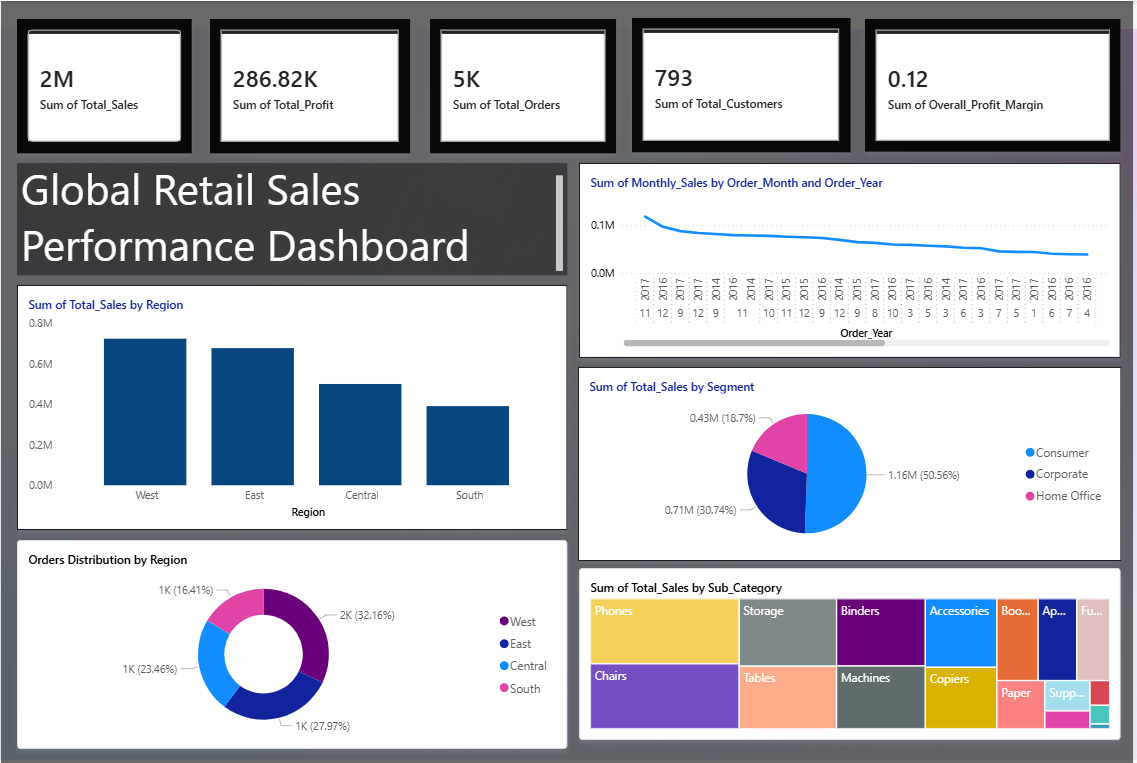

What the dashboard file says about the page in this screenshot:
{"tool":"powerbi","page":{"name":"Page 1","canvas":[1290,900],"ordinal":0},"visuals":[{"type":"cardVisual","fields":{"Data":["Sum(ww_KPI_Summary.Total_Sales)"]},"box":[17.8,20.1,199.1,152.9],"z":0},{"type":"cardVisual","fields":{"Data":["Sum(ww_KPI_Summary.Total_Profit)"]},"box":[238.2,20.1,227.5,152.9],"z":1000},{"type":"cardVisual","fields":{"Data":["Sum(ww_KPI_Summary.Total_Orders)"]},"box":[488.2,20.1,212.1,152.9],"z":2000},{"type":"cardVisual","fields":{"Data":["Sum(ww_KPI_Summary.Total_Customers)"]},"box":[719.3,19,248.8,152.9],"z":3000},{"type":"cardVisual","fields":{"Data":["Sum(ww_KPI_Summary.Overall_Profit_Margin)"]},"box":[984.3,20.4,291.3,151.1],"z":4000},{"type":"lineChart","fields":{"Category":["vw_Monthly_Sales.Order_Month","vw_Monthly_Sales.Order_Year"],"Y":["Sum(vw_Monthly_Sales.Monthly_Sales)"]},"box":[658.5,184.6,617.5,222.2],"z":5000},{"type":"clusteredColumnChart","fields":{"Category":["vw_Region_Performance.Region"],"Y":["Sum(vw_Region_Performance.Total_Sales)"]},"box":[18.2,323.5,626.6,279.1],"z":6000},{"type":"pieChart","fields":{"Category":["vw_Customer_Performance.Segment"],"Y":["Sum(vw_Customer_Performance.Total_Sales)"]},"box":[657.3,417,618.6,221],"z":7000},{"type":"donutChart","title":"Orders Distribution by Region","fields":{"Category":["vw_Region_Performance.Region"],"Y":["Sum(vw_Region_Performance.Total_Orders)"]},"box":[18.2,614.1,626.6,238.1],"z":8000},{"type":"treemap","fields":{"Group":["vw_Peoduct_Performance.Sub_Category"],"Values":["Sum(vw_Peoduct_Performance.Total_Sales)"]},"box":[658.5,645.9,617.5,195.9],"z":9000},{"type":"textbox","box":[18.2,184.6,626.6,127.6],"z":10000}]}

Visuals, with their boxes in screenshot pixels (x1, y1, x2, y2):
cardVisual - Sum(ww_KPI_Summary.Total_Sales): [x1=21, y1=20, x2=194, y2=153]
cardVisual - Sum(ww_KPI_Summary.Total_Profit): [x1=213, y1=20, x2=410, y2=153]
cardVisual - Sum(ww_KPI_Summary.Total_Orders): [x1=430, y1=20, x2=614, y2=153]
cardVisual - Sum(ww_KPI_Summary.Total_Customers): [x1=630, y1=19, x2=846, y2=152]
cardVisual - Sum(ww_KPI_Summary.Overall_Profit_Margin): [x1=860, y1=21, x2=1113, y2=152]
lineChart - vw_Monthly_Sales.Order_Month x vw_Monthly_Sales.Order_Year: [x1=577, y1=163, x2=1113, y2=356]
clusteredColumnChart - vw_Region_Performance.Region x Sum(vw_Region_Performance.Total_Sales): [x1=22, y1=284, x2=565, y2=526]
pieChart - vw_Customer_Performance.Segment x Sum(vw_Customer_Performance.Total_Sales): [x1=576, y1=365, x2=1113, y2=557]
"Orders Distribution by Region" donutChart: [x1=22, y1=536, x2=565, y2=743]
treemap - vw_Peoduct_Performance.Sub_Category x Sum(vw_Peoduct_Performance.Total_Sales): [x1=577, y1=563, x2=1113, y2=733]
textbox: [x1=22, y1=163, x2=565, y2=274]
